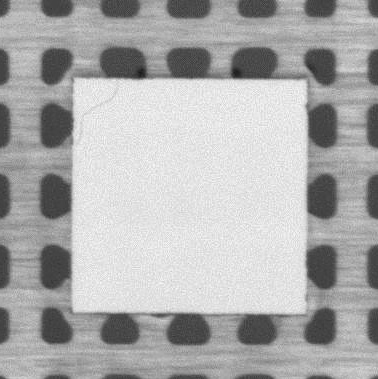DIE_CRACK: (75, 79, 121, 145)
